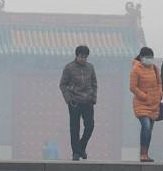person: (59, 45, 99, 160), (129, 46, 160, 163)
